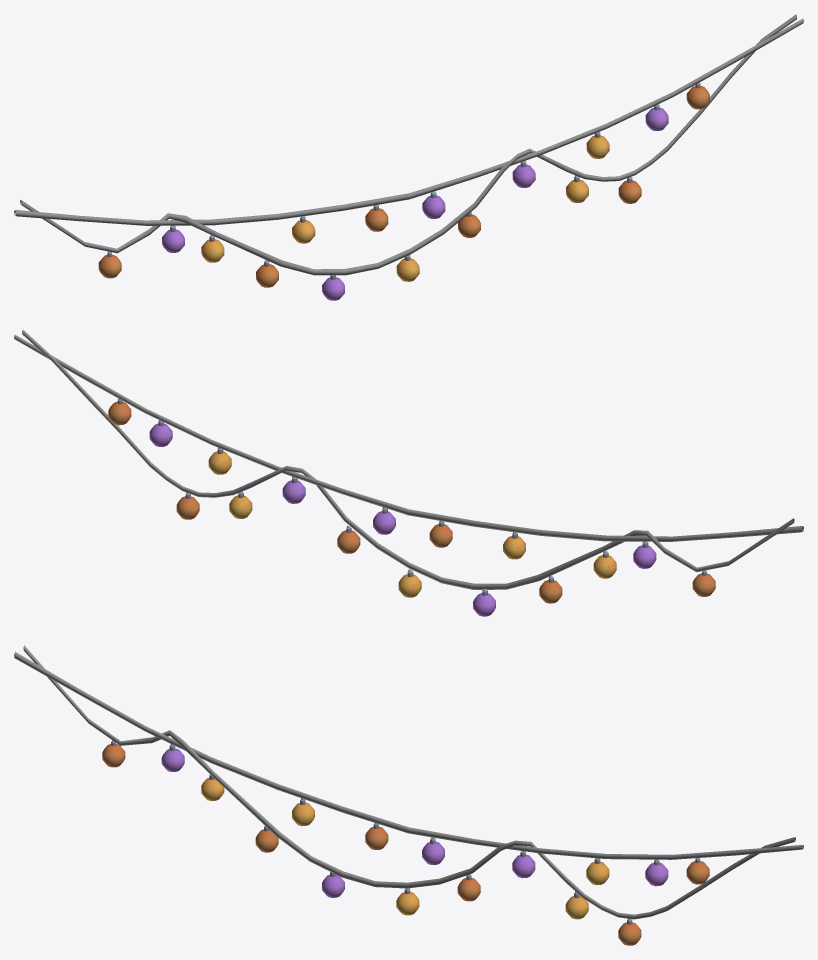
The model's file is pref_sm_beach_WSJ_deng03_a_lv3.fbx.
The picture shows the model from 3 angles, top to bottom: view 1: azimuth 30°, elevation 25°; view 2: azimuth 150°, elevation 25°; view 3: azimuth 330°, elevation 25°; orthographic projection.
Parts seen in each view (by area): view 1: pref_sm_beach_WSJ_deng03_a_lv3; view 2: pref_sm_beach_WSJ_deng03_a_lv3; view 3: pref_sm_beach_WSJ_deng03_a_lv3.
Boxes of the visible parts, x1,y1,x2,y2 form: pref_sm_beach_WSJ_deng03_a_lv3: (14, 14, 803, 300); pref_sm_beach_WSJ_deng03_a_lv3: (14, 330, 803, 616); pref_sm_beach_WSJ_deng03_a_lv3: (14, 645, 803, 945).
Size of the model in its own units: 9.43 by 2 by 0.2688.
1 material, 1 textured.
